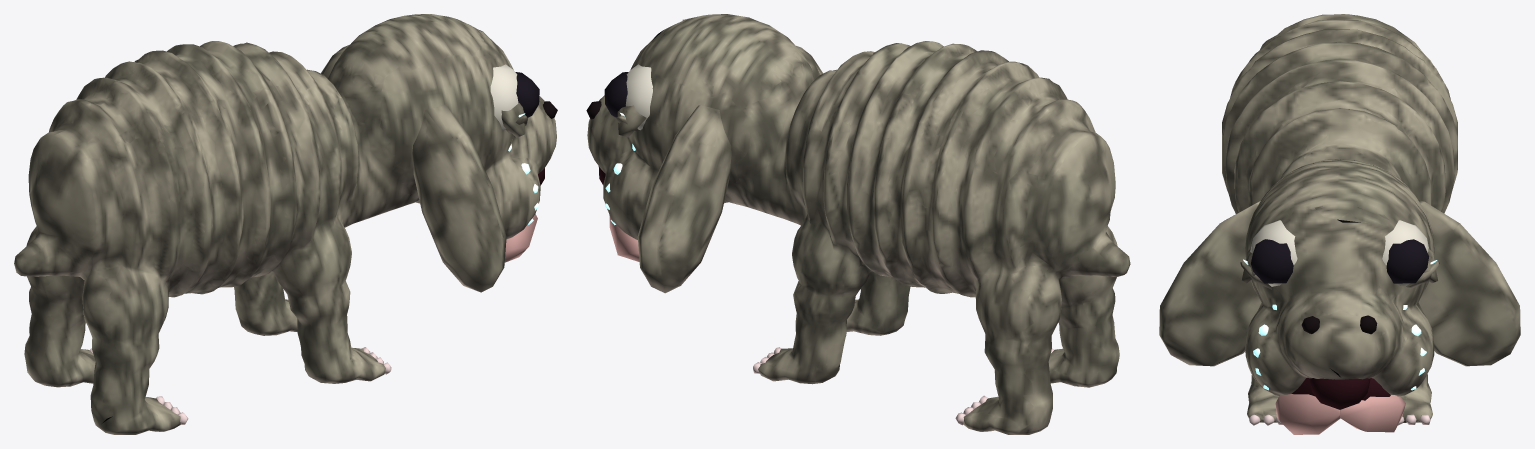
File: squonk.glb
The picture shows the model from 3 angles, left to right: view 1: azimuth 30°, elevation 25°; view 2: azimuth 150°, elevation 25°; view 3: azimuth 270°, elevation 25°; orthographic projection.
Visible parts, largest first — view 1: squonk.001; view 2: squonk.001; view 3: squonk.001.
Boxes of the visible parts, x1,y1,x2,y2 form: squonk.001: (14,14,557,434); squonk.001: (586,14,1130,434); squonk.001: (1159,14,1520,434).
Bounding box in the file's own units: 1.07 × 0.627 × 0.64.
8 materials, 1 textured.
